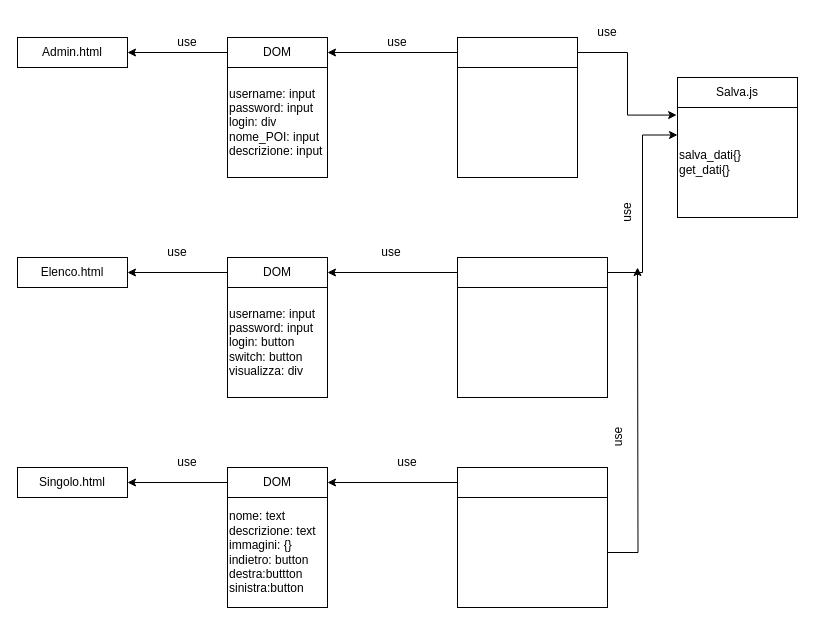
Some shapes in this 815 by 625 pixel diagram are drawn without their labels. The centre of each missing label's shape, as x and y in pixels:
"Admin.js" belongs at point (517, 52).
"Elenco.js" belongs at point (532, 272).
"indietro.onclick:{} destra.onclick:{} sinistra.onclick:{}" belongs at point (532, 552).
"login.onclick:{} inserimento.onclick{} modifica.onclick{} salva.onclick{}" belongs at point (517, 122).
"login.onclick:{} switch.onclick{} POI.onclick{}" belongs at point (532, 342).
"Singolo.js" belongs at point (532, 482).
